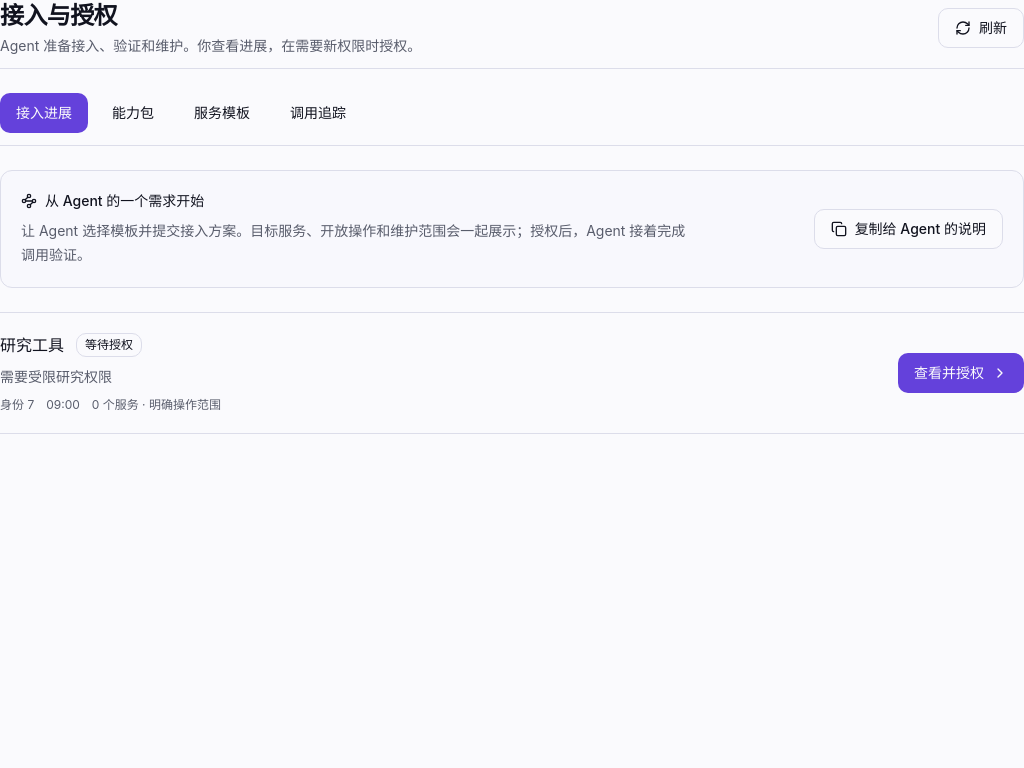
Test case: keeps a rejected digest visible without retrying the decision
Click the button "查看并授权". click: [961, 373]
box: x1=898 y1=353 x2=1023 y2=393
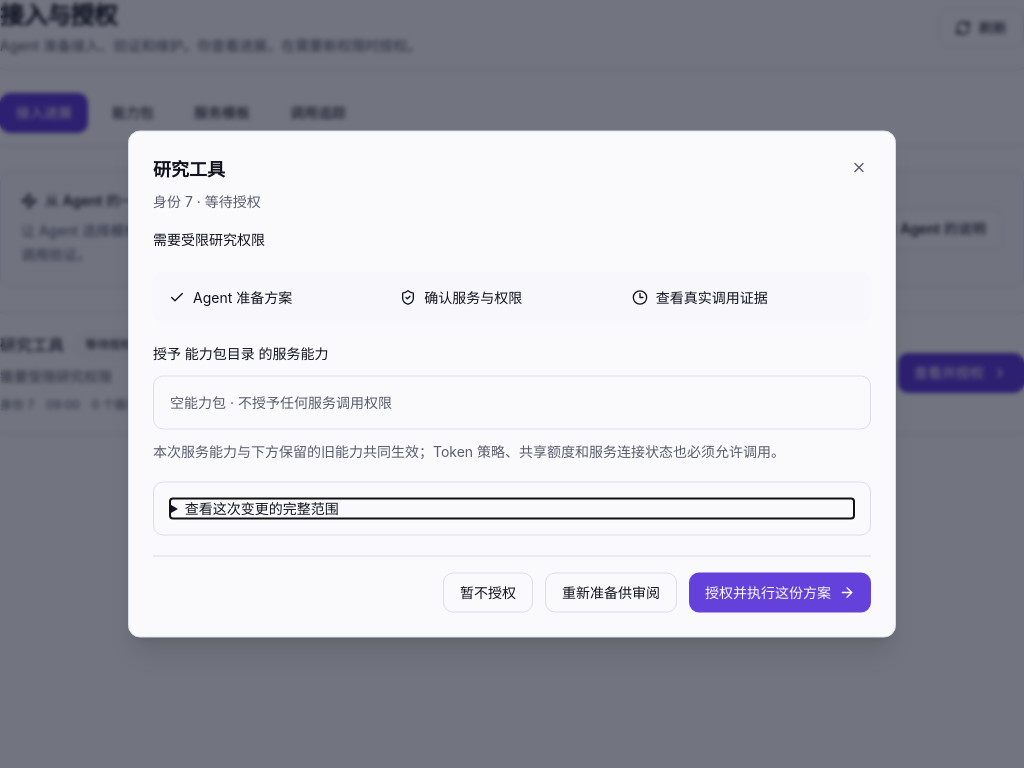
Click the button "授权并执行这份方案". click: [780, 592]
box: x1=689 y1=572 x2=871 y2=612
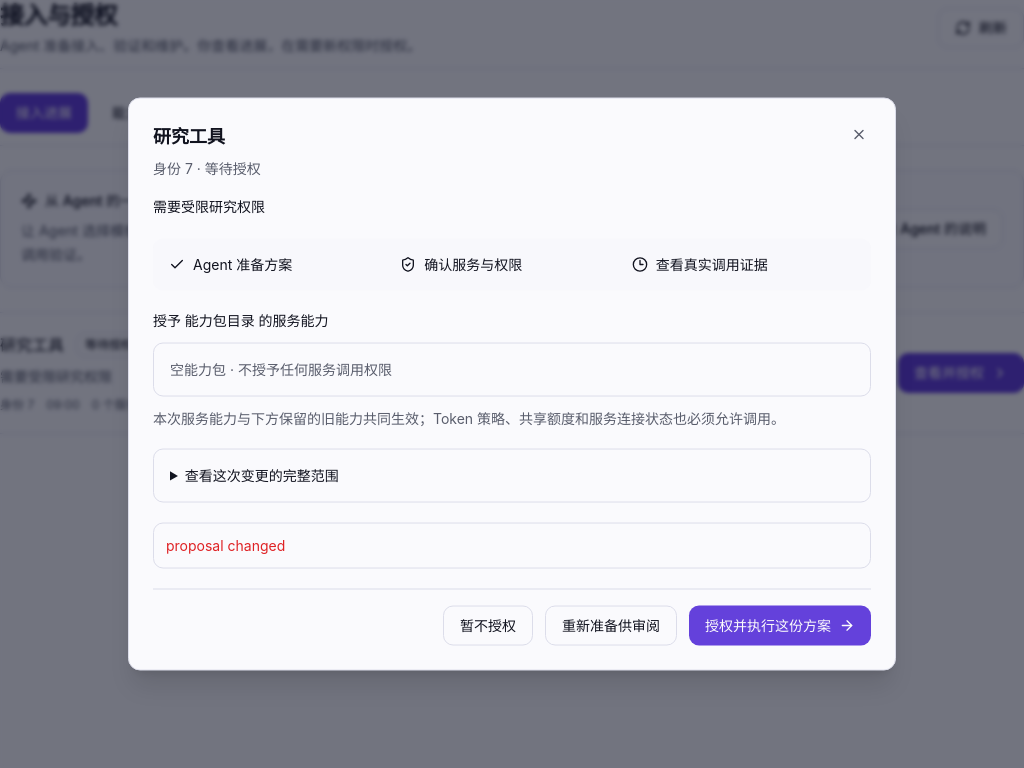
Check: the dialog is shown, box x1=128 y1=98 x2=896 y2=670
Check: the message reads "proposal changed", box x1=166 y1=536 x2=285 y2=554
